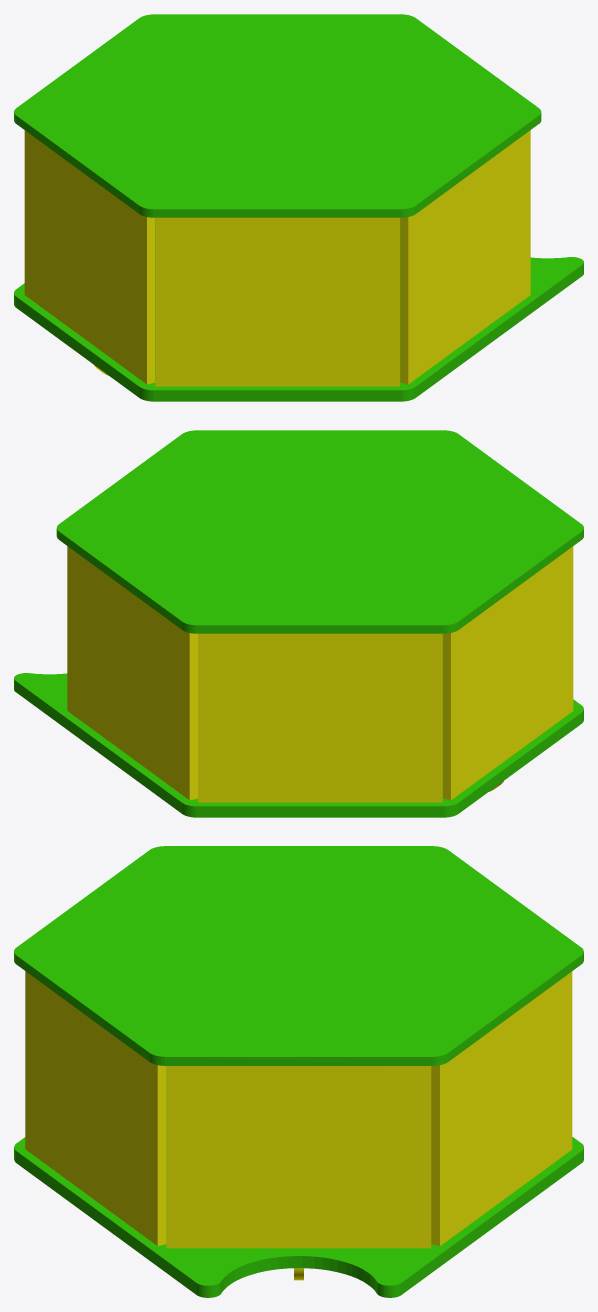
The picture shows the model from 3 angles, top to bottom: view 1: azimuth 30°, elevation 25°; view 2: azimuth 150°, elevation 25°; view 3: azimuth 270°, elevation 25°; orthographic projection. The views are drawn at different scales.
Visible parts, largest first — view 1: FBXASC195FBXASC129FBXASC195FBXASC174FBXASC195FBXASC161FBXAS_ (×4), FBXASC195FBXASC129FBXASC195FBXASC174FBXASC195FBXASC161FBXASC; view 2: FBXASC195FBXASC129FBXASC195FBXASC174FBXASC195FBXASC161FBXAS_ (×4), FBXASC195FBXASC129FBXASC195FBXASC174FBXASC195FBXASC161FBXASC; view 3: FBXASC195FBXASC129FBXASC195FBXASC174FBXASC195FBXASC161FBXAS_ (×4), FBXASC195FBXASC129FBXASC195FBXASC174FBXASC195FBXASC161FBXASC.
Boxes of the visible parts, x1=… form: FBXASC195FBXASC129FBXASC195FBXASC174FBXASC195FBXASC161FBXAS_ (×4): x1=14, y1=14, x2=541, y2=386; FBXASC195FBXASC129FBXASC195FBXASC174FBXASC195FBXASC161FBXASC: x1=14, y1=218, x2=583, y2=401; FBXASC195FBXASC129FBXASC195FBXASC174FBXASC195FBXASC161FBXAS_ (×4): x1=56, y1=430, x2=583, y2=802; FBXASC195FBXASC129FBXASC195FBXASC174FBXASC195FBXASC161FBXASC: x1=14, y1=634, x2=583, y2=817; FBXASC195FBXASC129FBXASC195FBXASC174FBXASC195FBXASC161FBXAS_ (×4): x1=14, y1=846, x2=583, y2=1248; FBXASC195FBXASC129FBXASC195FBXASC174FBXASC195FBXASC161FBXASC: x1=14, y1=1066, x2=583, y2=1297.
Size of the model in its own units: 0.1724 by 0.1702 by 0.0815.
